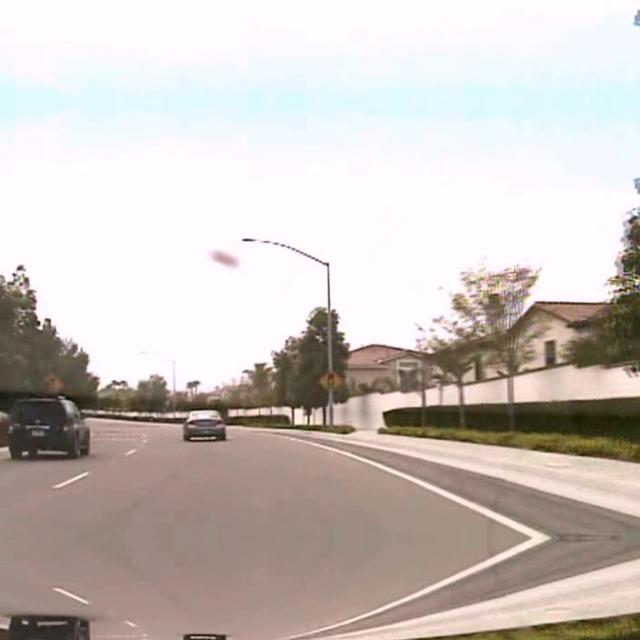signalAhead: (318, 368, 342, 390)
